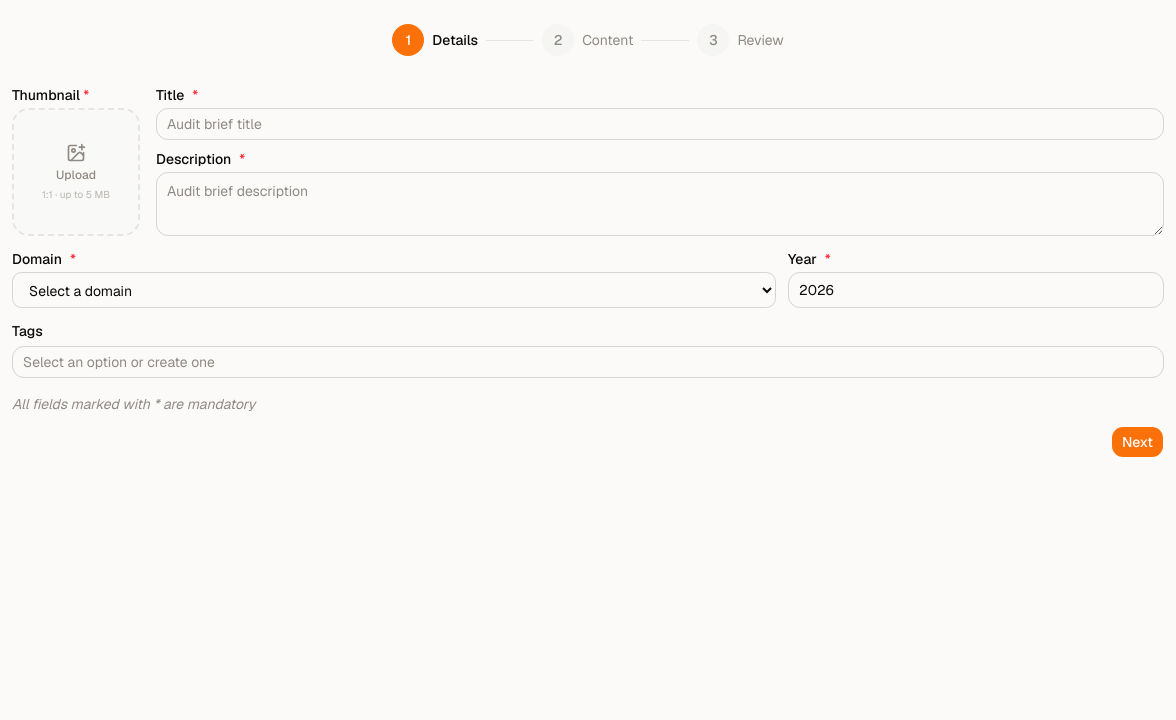
AuditBriefUploadWizard › clicking "Next" without filling required fields shows validation errors
Click the button "Next".
click(1137, 442)  # box [1111,426,1164,458]
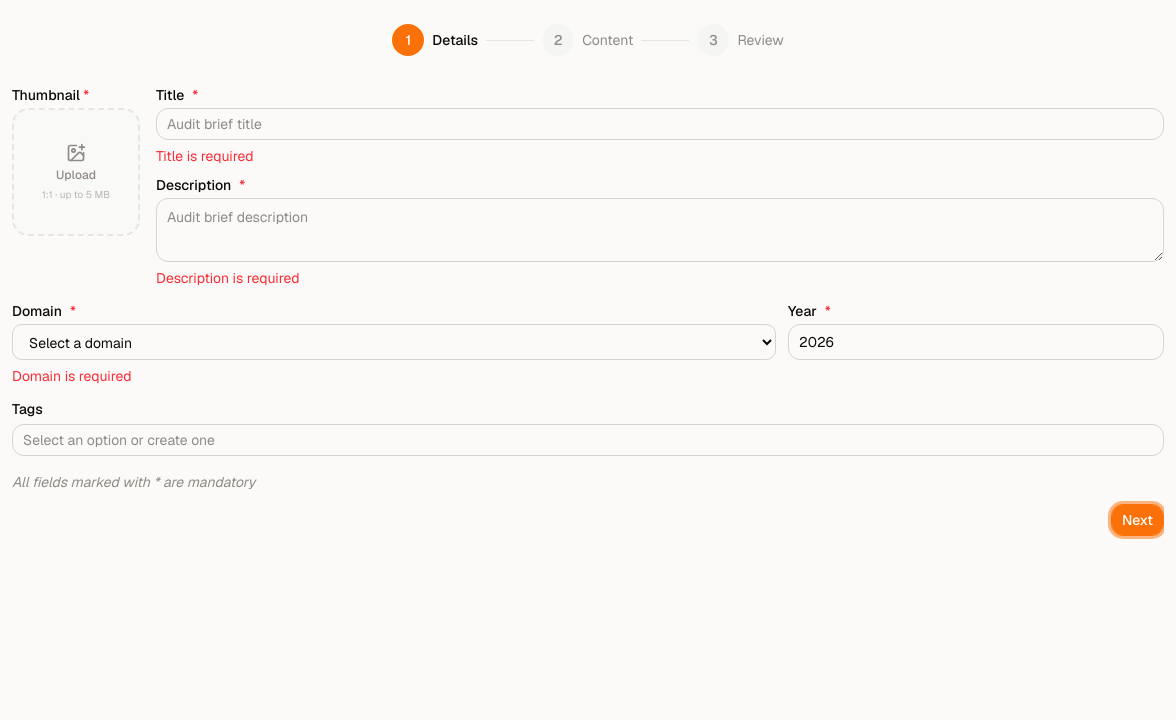
expect the text "Title is required" is shown: met, box [156,147,254,165]
expect the text "Description is required" is shown: met, box [156,269,300,287]
expect the text "Domain is required" is shown: met, box [12,367,132,385]
